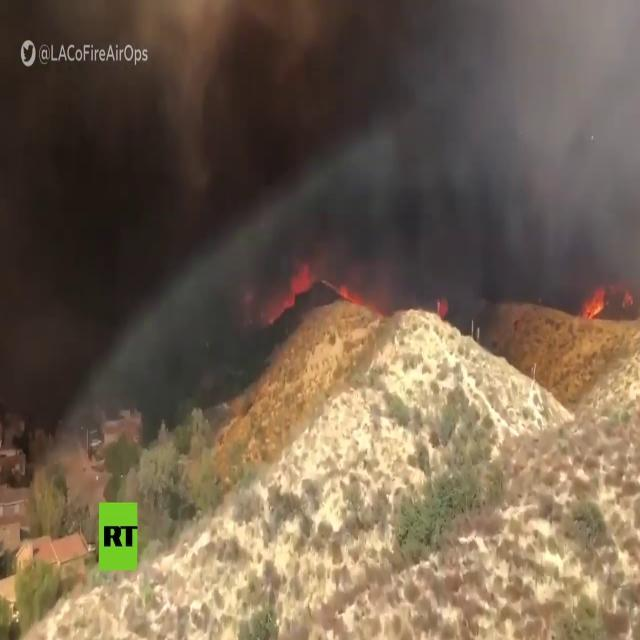Fire: (275, 261, 315, 315), (582, 282, 608, 318), (336, 282, 362, 308), (435, 298, 449, 321), (621, 290, 635, 312)
Smoke: (4, 6, 638, 456)
